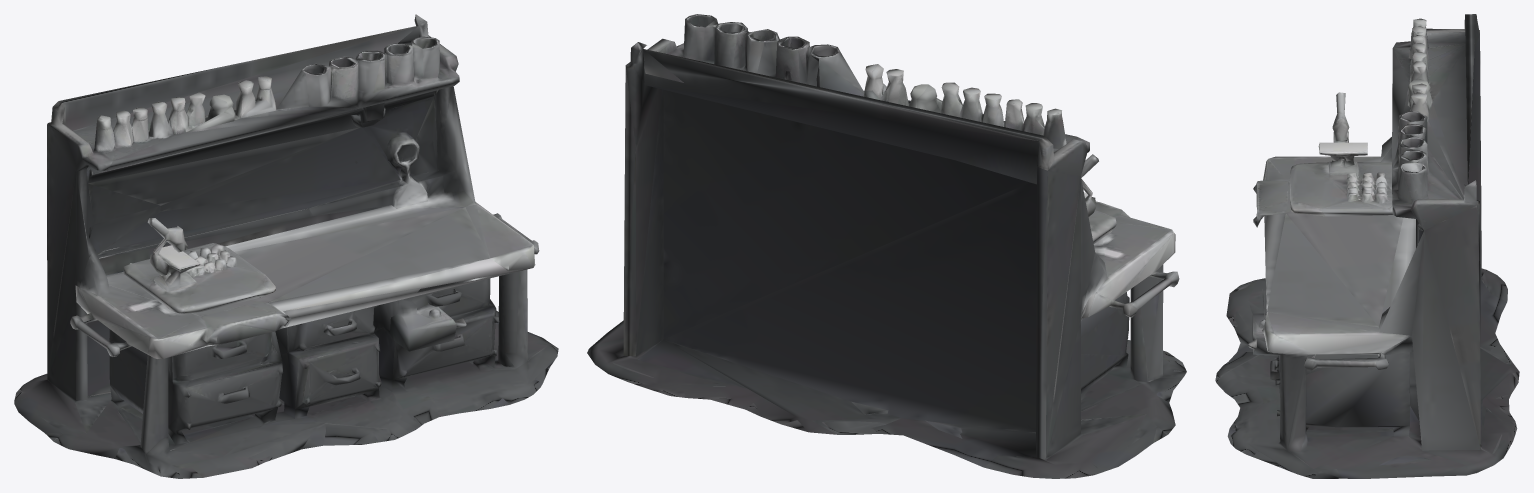
3 renders of one model, left to right at view 1: azimuth 30°, elevation 25°; view 2: azimuth 150°, elevation 25°; view 3: azimuth 270°, elevation 25°, orthographic. The views are drawn at different scales.
Bounding box in the file's own units: 1.89 × 1.11 × 1.1.
1 material, 1 textured.
